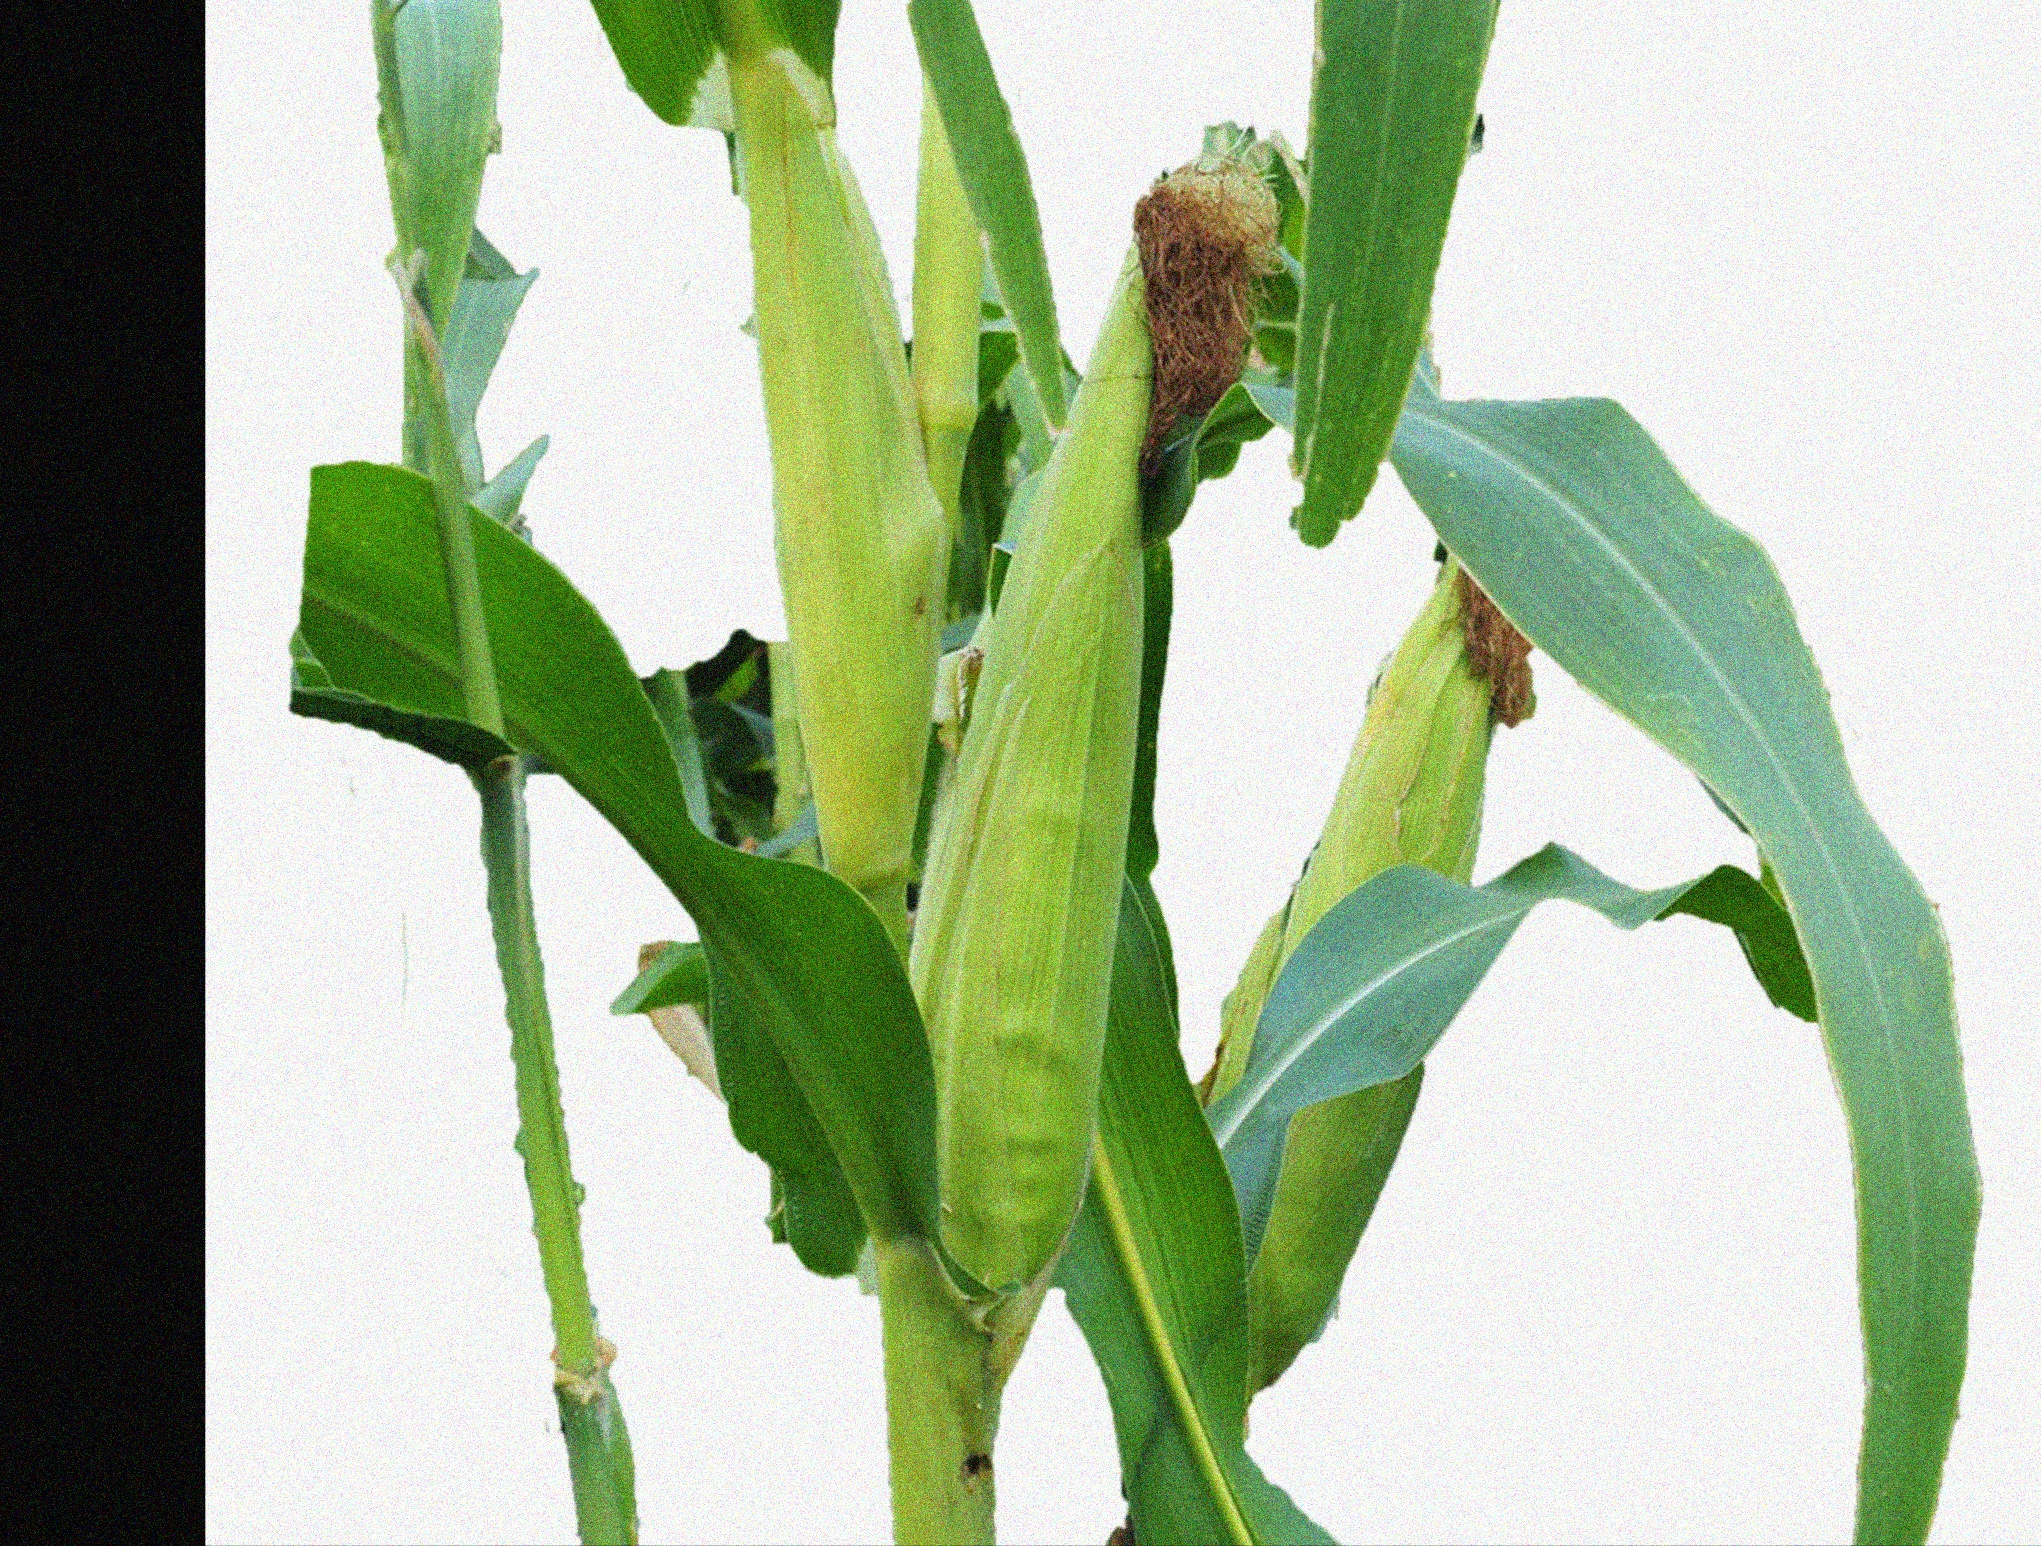corn_plant: (1169, 429, 1601, 1465), (896, 130, 1239, 1424), (680, 21, 937, 1262)
